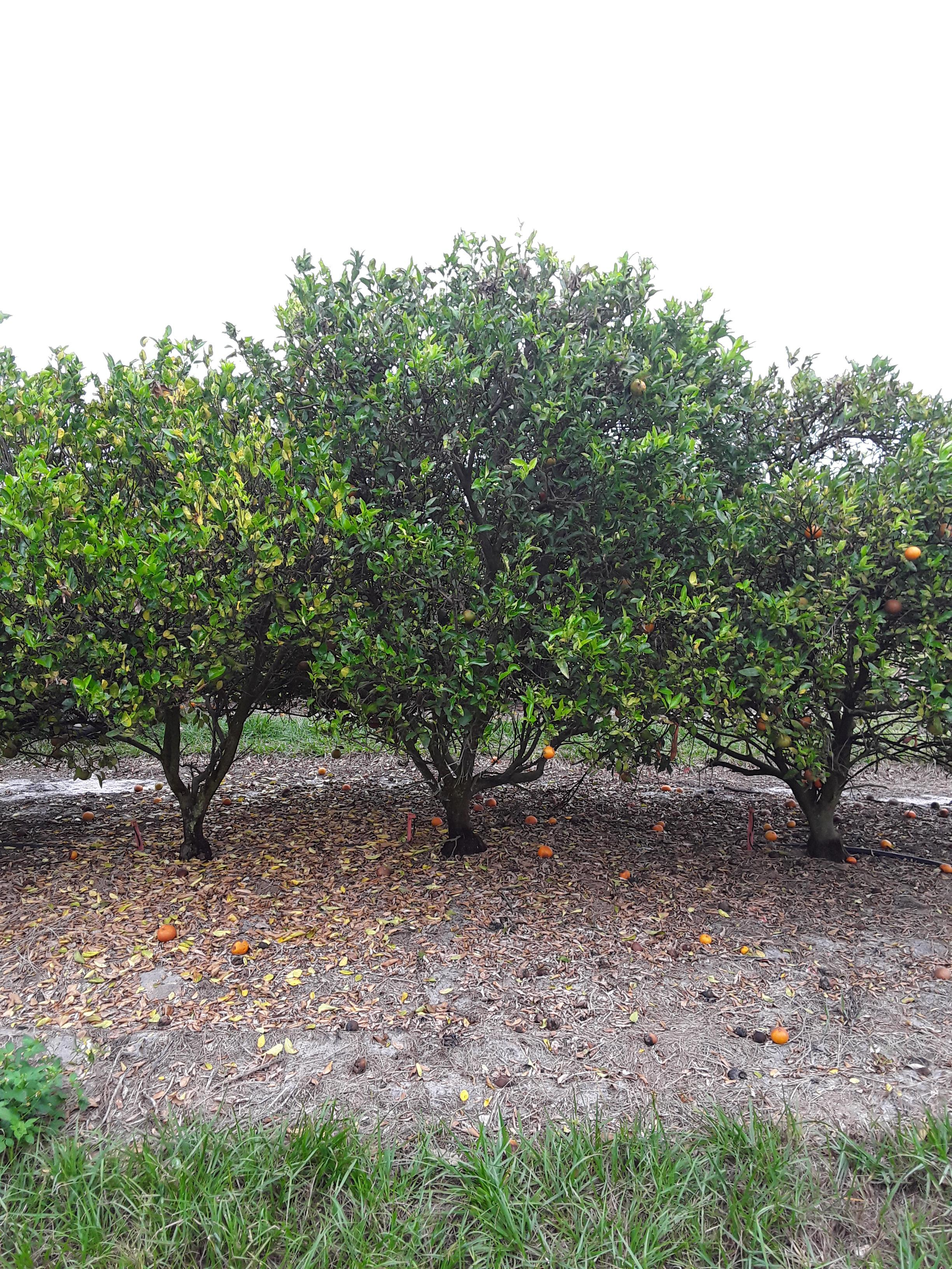fruit_on_ground: (882, 598, 904, 616), (637, 618, 657, 637), (458, 608, 479, 626), (803, 523, 823, 541), (629, 379, 648, 397), (903, 545, 922, 563), (936, 521, 952, 541), (754, 715, 772, 732), (774, 732, 792, 749), (75, 764, 94, 780), (0, 742, 18, 758), (541, 744, 556, 761), (328, 746, 344, 760), (612, 706, 628, 720), (798, 714, 812, 730), (812, 774, 826, 788), (619, 770, 632, 784), (367, 716, 381, 729), (803, 768, 816, 782), (296, 659, 310, 671)
fruit_on_tree: (154, 921, 178, 943), (769, 1026, 791, 1045), (229, 938, 250, 956), (535, 844, 554, 859), (933, 966, 950, 982), (376, 864, 391, 879), (643, 1032, 658, 1046), (174, 866, 189, 880), (80, 810, 96, 823), (522, 813, 537, 826), (938, 861, 952, 874), (698, 932, 711, 946), (763, 830, 778, 842), (618, 868, 631, 880), (903, 808, 917, 819), (431, 815, 443, 827), (783, 797, 796, 808), (485, 797, 497, 808), (879, 839, 893, 848), (472, 802, 483, 813), (153, 781, 165, 791), (651, 823, 664, 832), (739, 944, 750, 954), (221, 797, 232, 807), (70, 850, 80, 860), (938, 808, 949, 817), (660, 783, 671, 792), (133, 784, 144, 793), (845, 856, 857, 864), (786, 820, 796, 829), (317, 766, 327, 775), (341, 783, 351, 792), (489, 755, 500, 763), (548, 816, 557, 825), (762, 822, 772, 830), (153, 795, 162, 803), (656, 820, 665, 827), (675, 787, 683, 792)
